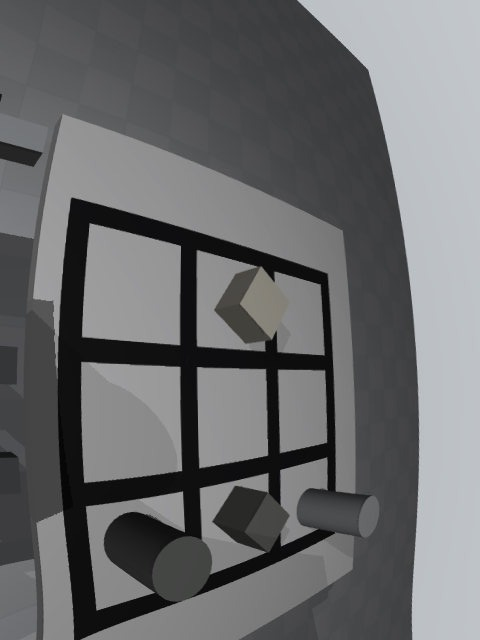can: (297, 488, 380, 538)
cube: (212, 486, 290, 553)
cylinder: (104, 512, 212, 602)
foam: (214, 266, 290, 343)
